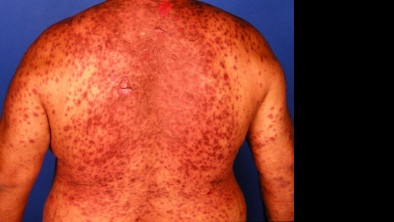SJS-TEN: (0, 0, 297, 222)
